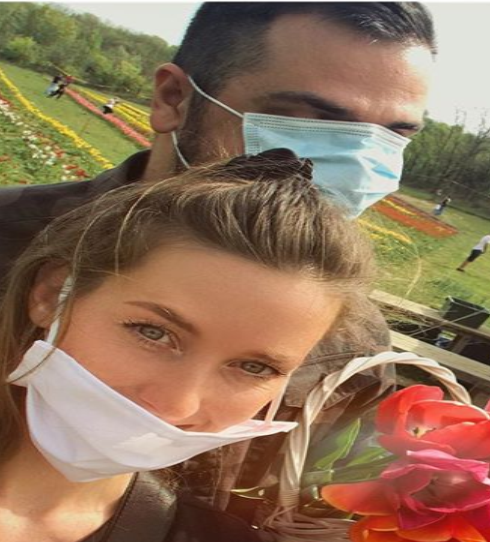mask_weared_incorrect: (14, 190, 346, 482), (150, 2, 447, 224)
